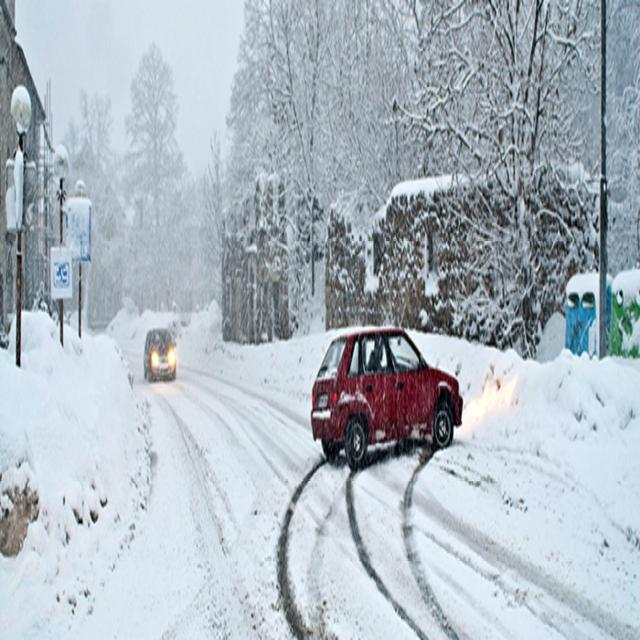car: (312, 328, 462, 465), (143, 326, 178, 382)
